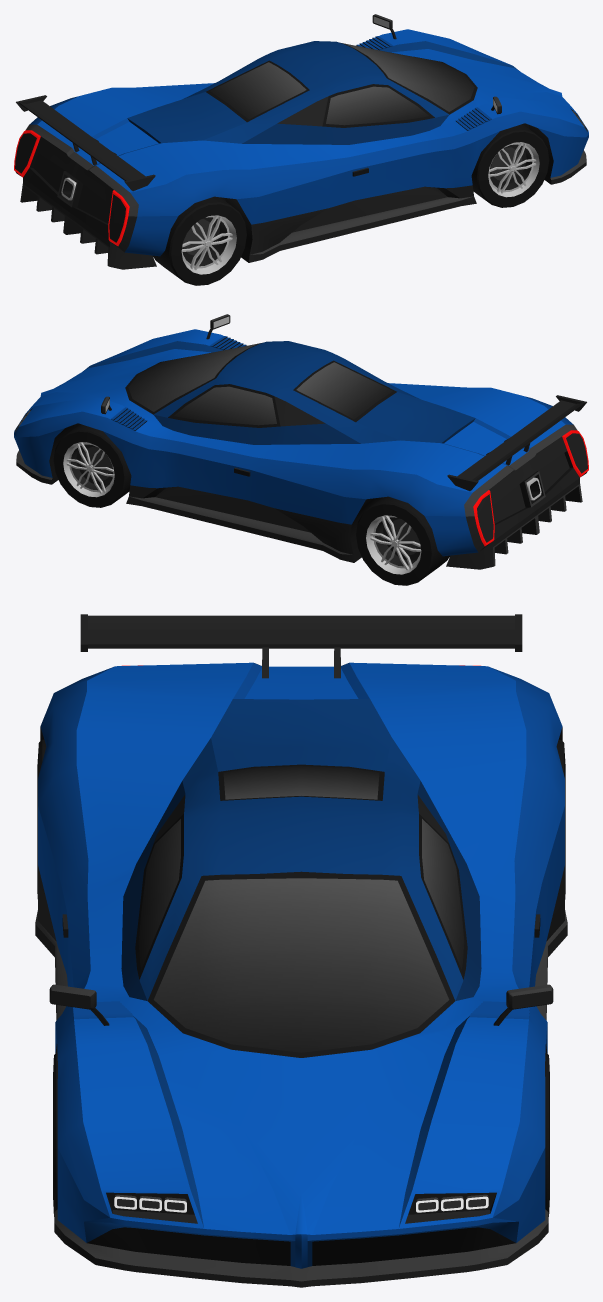
File: Car_173.glb
3 views of the same model, one above another, from view 1: azimuth 30°, elevation 25°; view 2: azimuth 150°, elevation 25°; view 3: azimuth 270°, elevation 25° (orthographic). The views are drawn at different scales.
Parts seen in each view (by area): view 1: Car_173, wheel_3_Car_173_Wheel_2R, wheel_1_Car_173_Wheel_1R; view 2: Car_173, wheel_2_Car_173_Wheel_2L, wheel_0_Car_173_Wheel_1L; view 3: Car_173.
Boxes of the visible parts, x1,y1,x2,y2 form: Car_173: [14, 14, 588, 269]; wheel_3_Car_173_Wheel_2R: [153, 196, 246, 285]; wheel_1_Car_173_Wheel_1R: [471, 124, 549, 207]; Car_173: [14, 314, 588, 569]; wheel_2_Car_173_Wheel_2L: [356, 496, 449, 585]; wheel_0_Car_173_Wheel_1L: [53, 424, 131, 507]; Car_173: [35, 614, 567, 1287].
Size of the model in its own units: 4.49 by 1.14 by 2.08.
3 materials, 3 textured.
